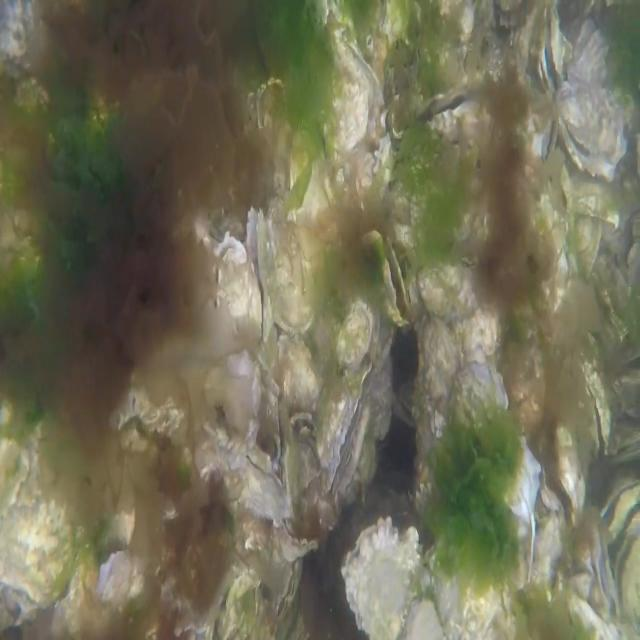Oyster-Closed: (424, 517, 520, 640), (317, 361, 373, 501), (219, 448, 294, 528), (275, 511, 320, 563)
Oyster-Indeterminate: (445, 362, 542, 520), (0, 427, 78, 611), (340, 516, 420, 640), (314, 0, 371, 162), (288, 124, 341, 263), (416, 316, 461, 470), (267, 192, 314, 336), (333, 295, 393, 378), (416, 260, 487, 324), (276, 331, 323, 422)
Oyster-Open: (554, 20, 639, 182), (531, 415, 585, 534), (413, 85, 481, 145), (214, 229, 250, 333), (612, 510, 640, 639), (246, 204, 270, 344), (582, 354, 611, 459), (381, 236, 413, 327), (596, 476, 640, 540), (591, 524, 620, 618), (538, 0, 564, 99)
